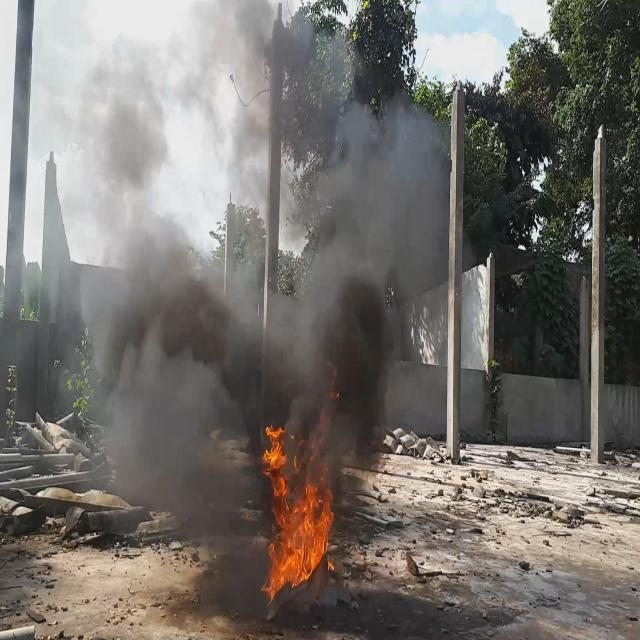Fire: (263, 423, 338, 606)
Smoke: (51, 0, 451, 541)
